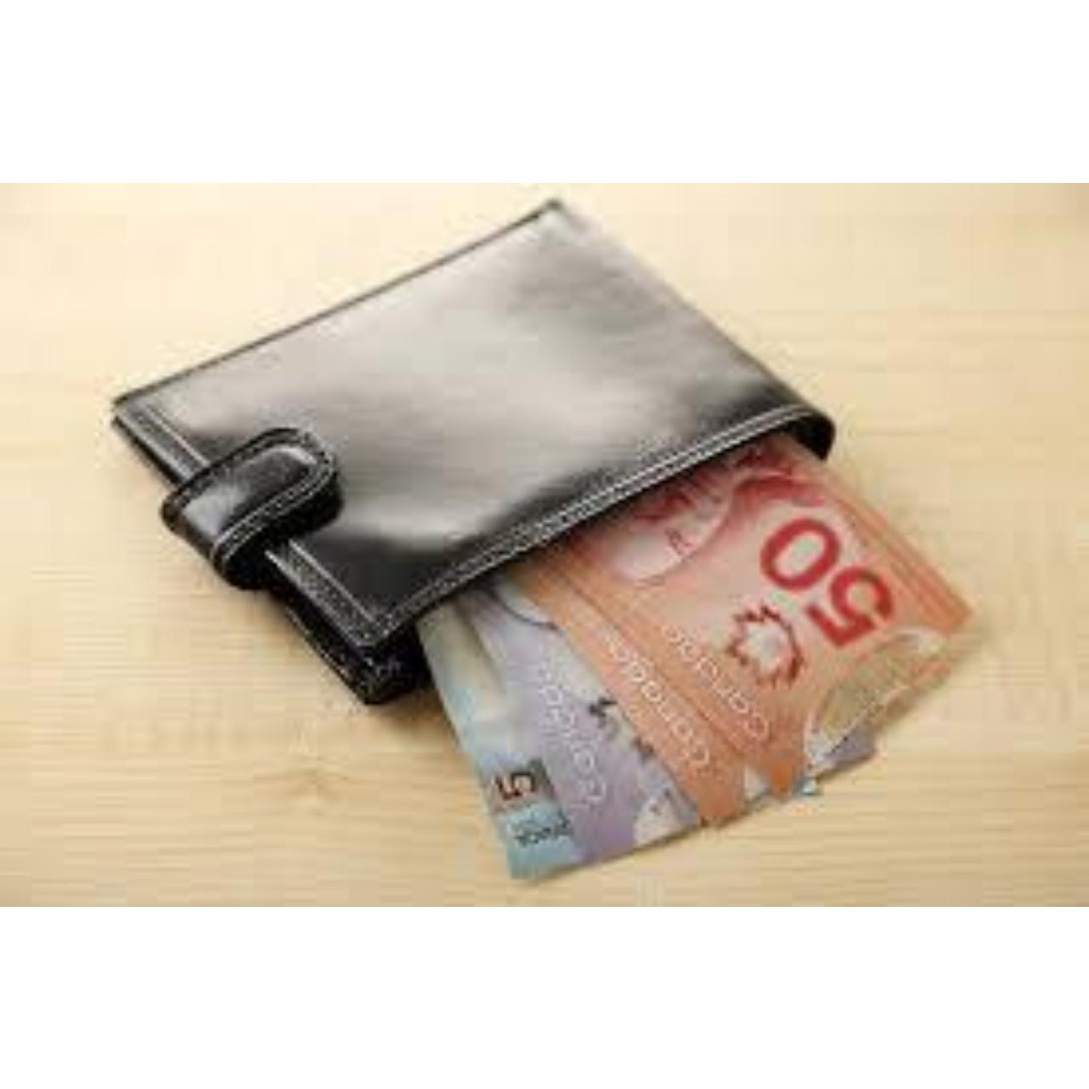wallet: (95, 212, 890, 707)
